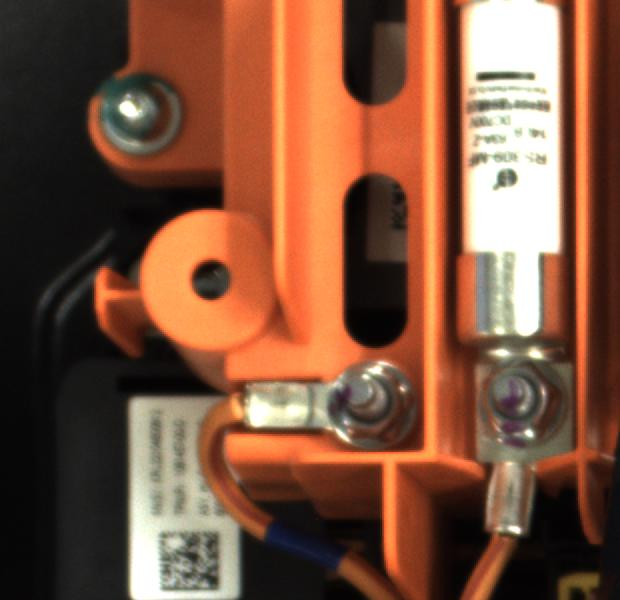screw_m: (102, 72, 201, 166)
screw_s: (475, 355, 565, 450), (323, 356, 413, 441)
